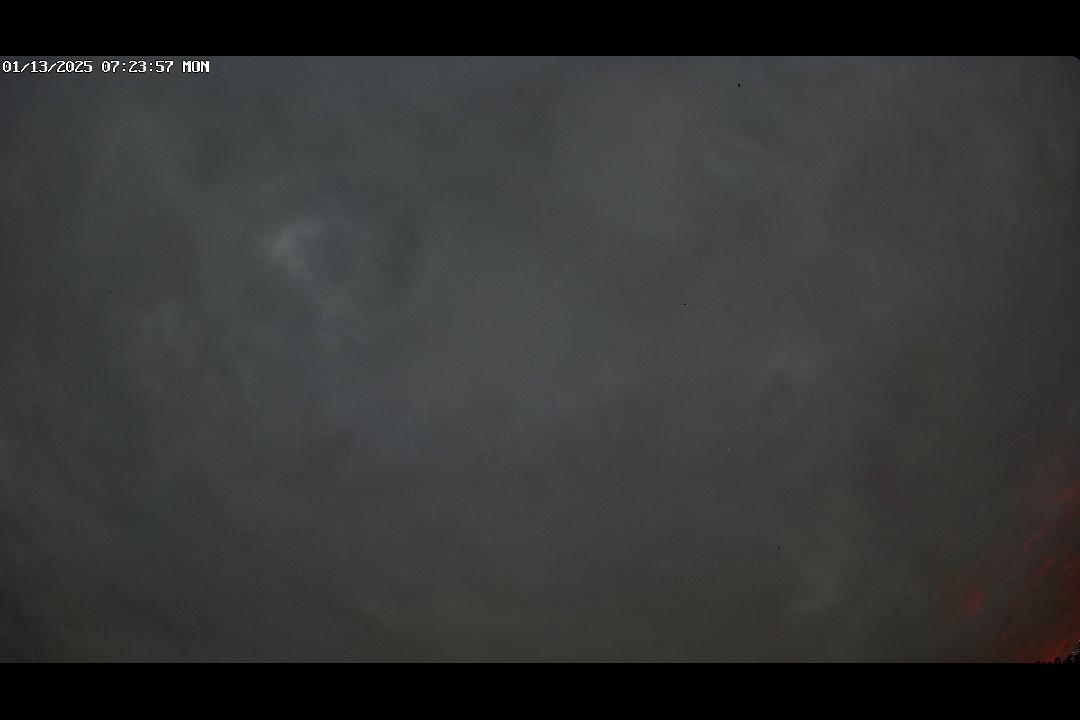WildLife: (730, 80, 753, 93), (669, 300, 693, 308), (770, 543, 787, 554)
